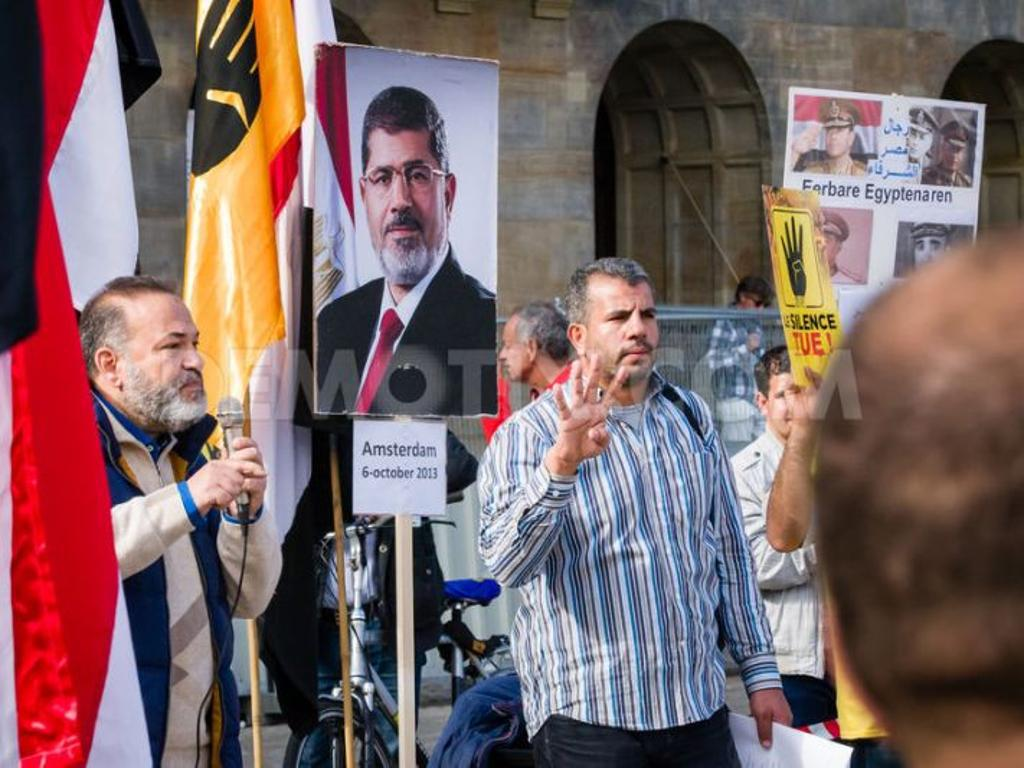face: (365, 143, 446, 285), (124, 307, 208, 433), (588, 291, 659, 385), (770, 380, 817, 440), (500, 327, 527, 381), (915, 237, 945, 273), (826, 124, 850, 158), (909, 125, 932, 160), (812, 233, 836, 265), (944, 139, 966, 171), (746, 295, 770, 319)
